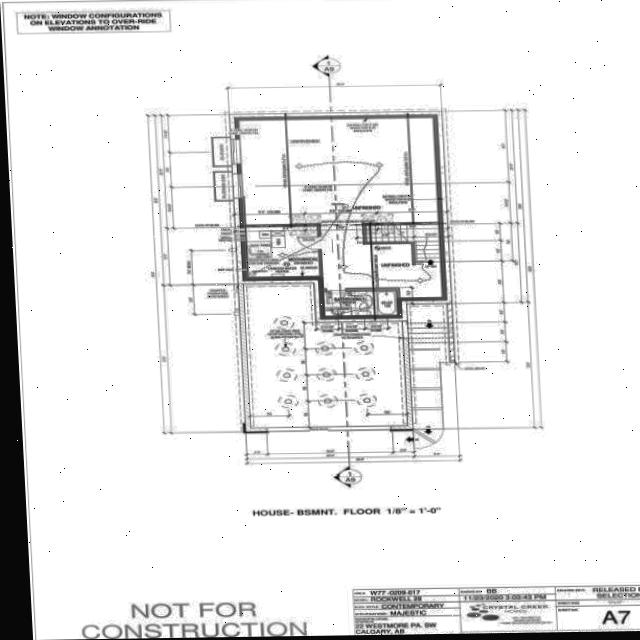room: (246, 226, 320, 277), (324, 290, 398, 316)
